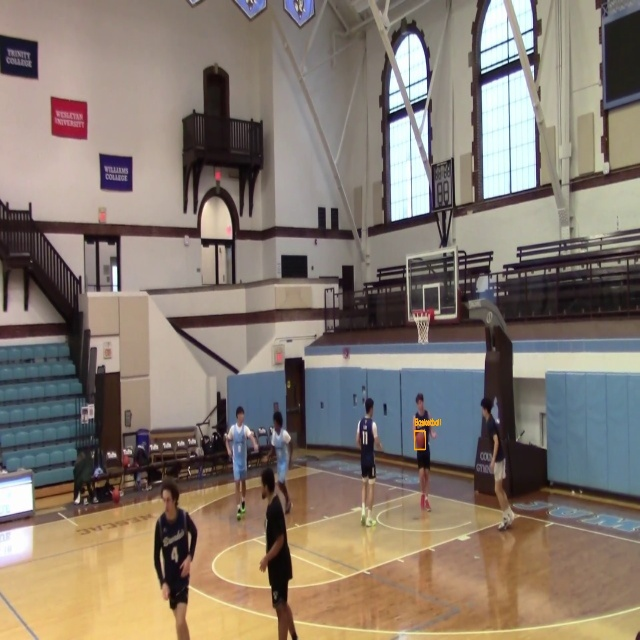Basketball: (415, 431, 425, 449)
